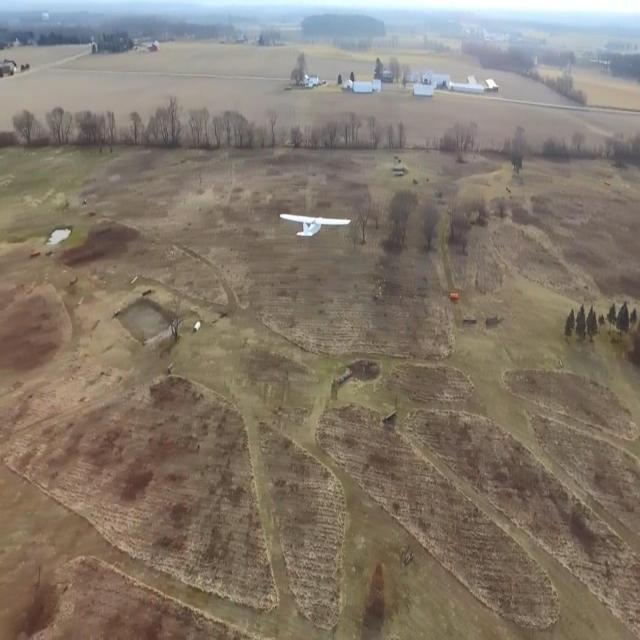iha: (313, 212, 319, 242)
